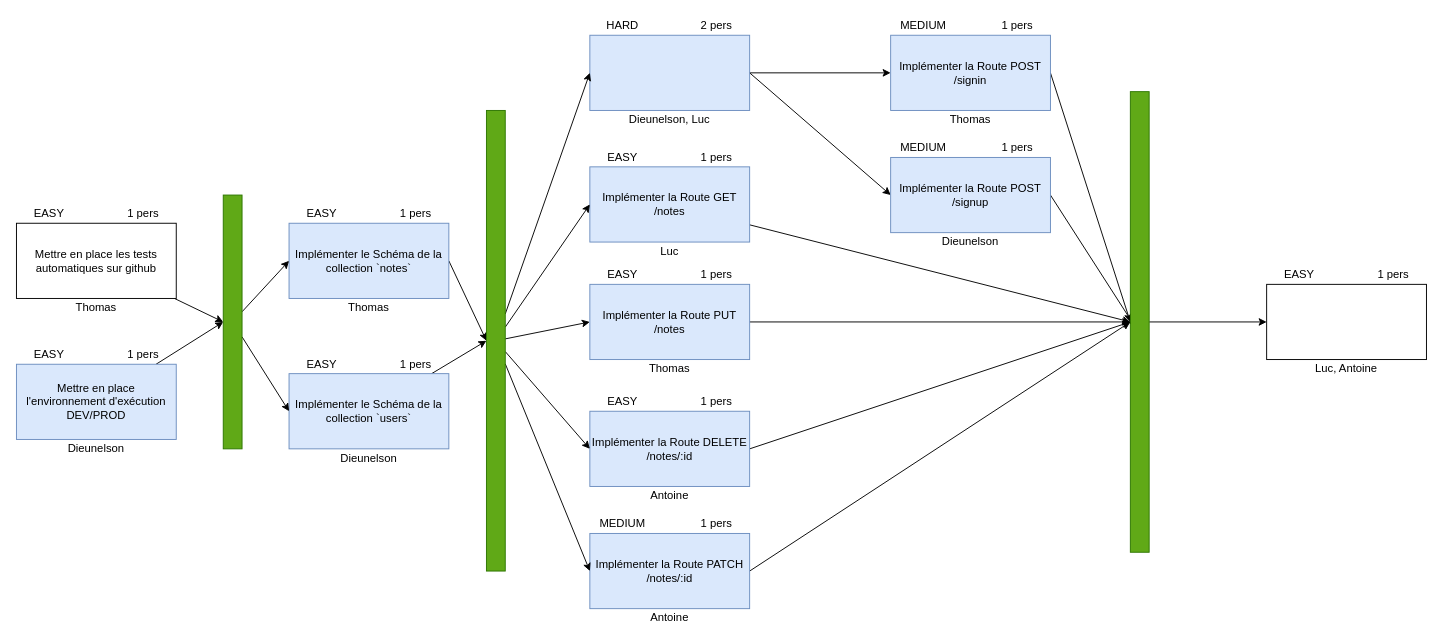
Image size: 1443x643. Some labels were removed from this diagram. Here are the shapes that lost their labels. From the top down, the box of each, then its label:
(589, 34, 750, 110): Implémenter une façade d'Authentification des utilisateurs
(1266, 283, 1426, 360): Mettre en place le déploiement automatiquement sur Heroku
